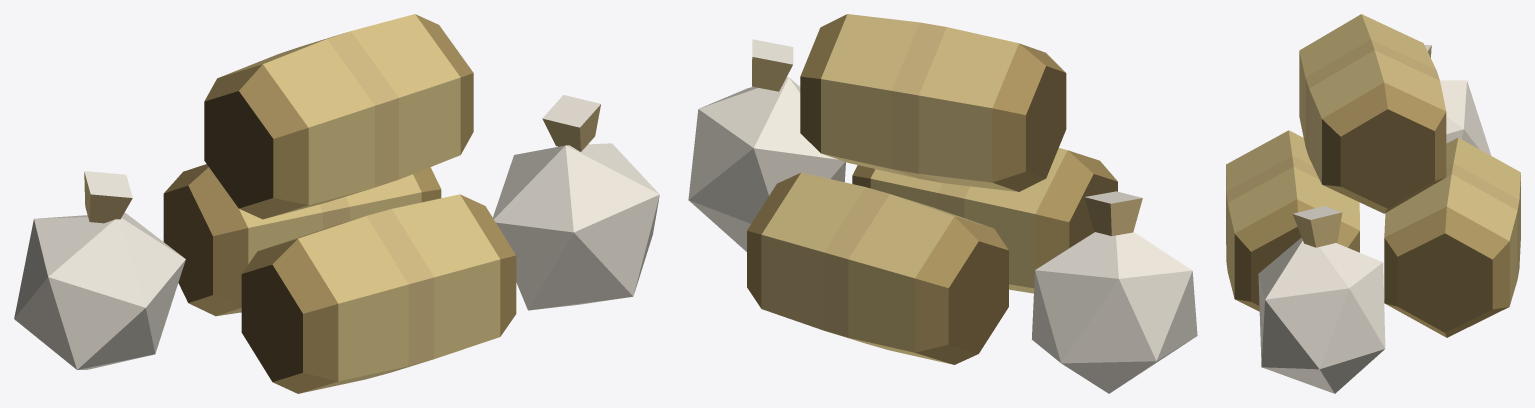
The model's file is sack_pile.fbx.
3 renders of one model, left to right at view 1: azimuth 30°, elevation 25°; view 2: azimuth 150°, elevation 25°; view 3: azimuth 270°, elevation 25°, orthographic. The views are drawn at different scales.
Parts seen in each view (by area): view 1: sack_pile; view 2: sack_pile; view 3: sack_pile.
Boxes of the visible parts, left/top/right/bottom form: sack_pile: left=14, top=14, right=659, bottom=393; sack_pile: left=688, top=14, right=1197, bottom=393; sack_pile: left=1226, top=14, right=1520, bottom=393.
Size of the model in its own units: 1.59 by 0.8268 by 0.8501.
